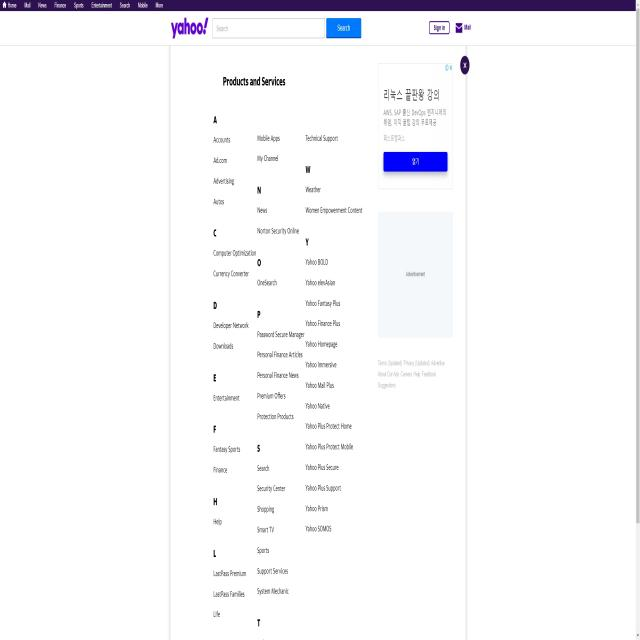menu-bar: (425, 18, 475, 44)
search: (209, 15, 366, 42)
